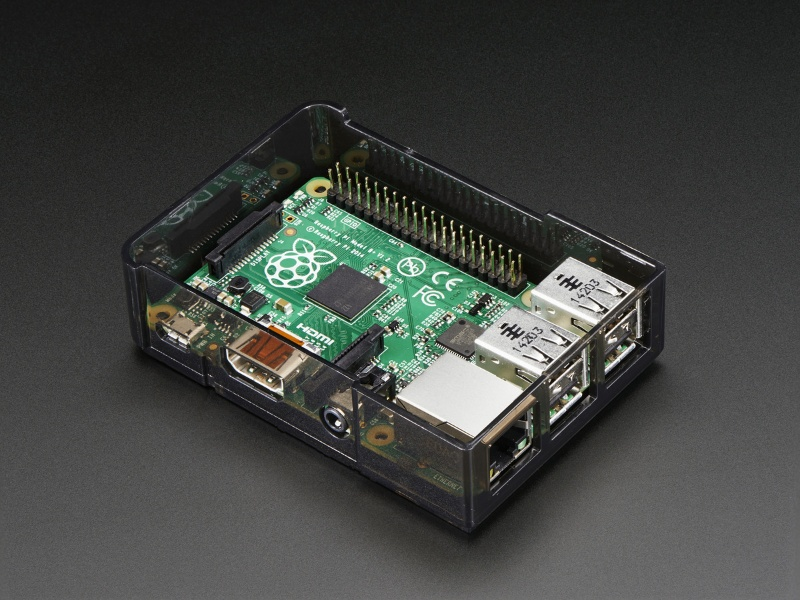raspberrypi: (91, 83, 690, 519)
